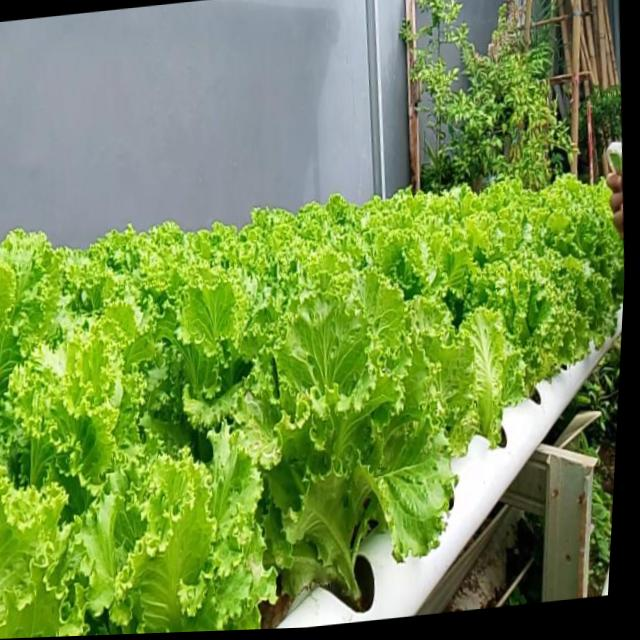Mature: (0, 173, 624, 639), (245, 285, 465, 617), (479, 252, 587, 418)
